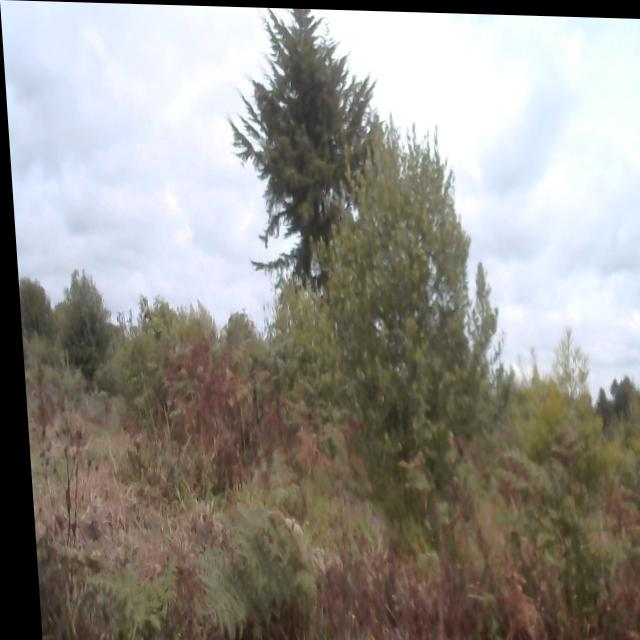Salix alba: (317, 119, 505, 571)
cedrus: (217, 5, 384, 265), (54, 269, 114, 392)
